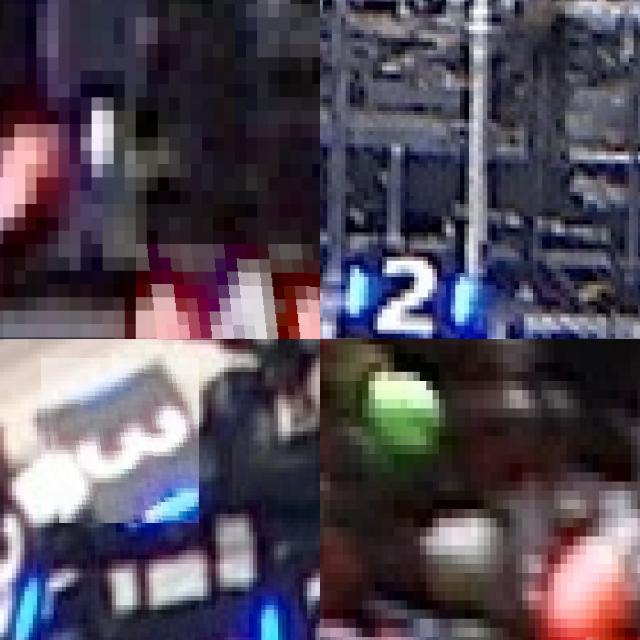B3: (41, 358, 199, 523), (0, 477, 45, 640), (257, 559, 320, 640)
R2: (322, 246, 482, 339)
R4: (135, 243, 320, 339)
